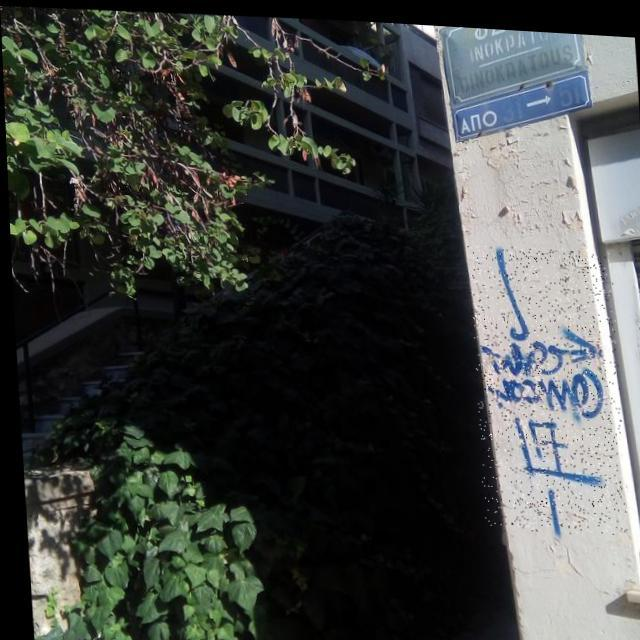-: (464, 237, 624, 531)
